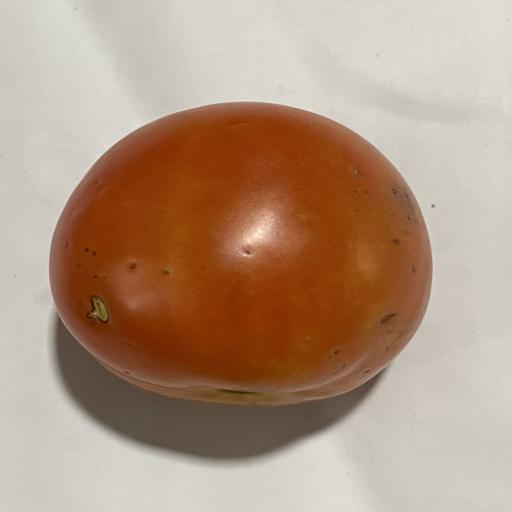ripe: (50, 102, 431, 405)
